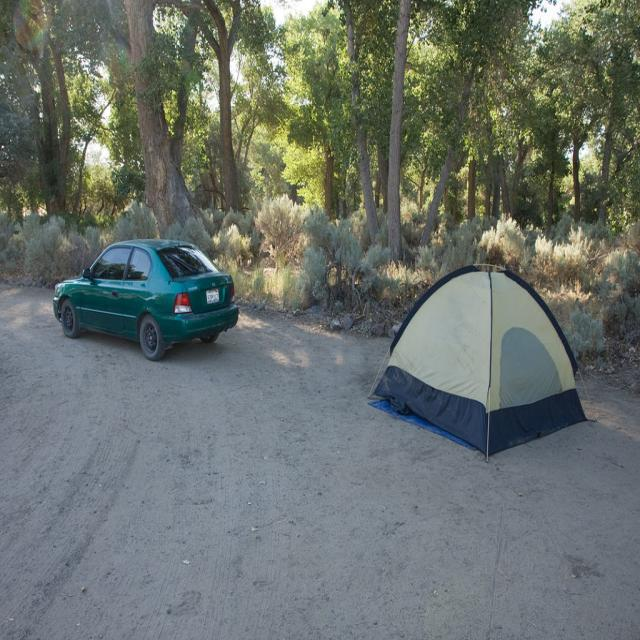car: (51, 230, 232, 360)
